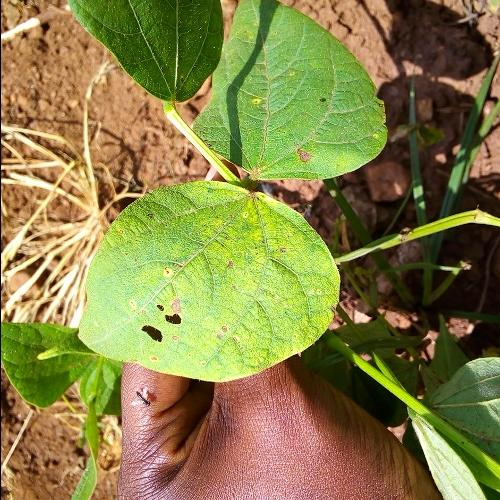mozaik: (80, 179, 340, 382)
